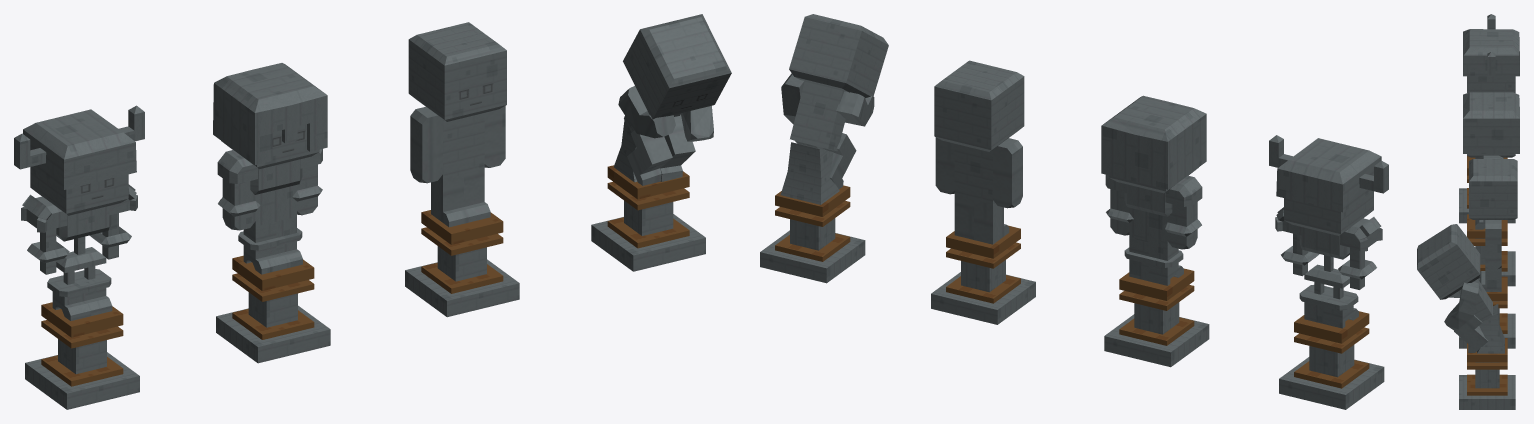
Rendered from C3_statue.FBX.
3 views of the same model, side by side, from view 1: azimuth 30°, elevation 25°; view 2: azimuth 150°, elevation 25°; view 3: azimuth 270°, elevation 25° (orthographic). The views are drawn at different scales.
Visible parts, largest first — view 1: soldier statue, skeleton man statue, civilian statue, statue, Box026; view 2: soldier statue, skeleton man statue, civilian statue, statue, Box026; view 3: statue, civilian statue, soldier statue, skeleton man statue, Box026.
Part boxes in pixels (box(x1,y1,x2,y2)): soldier statue: box(213, 63, 330, 363); skeleton man statue: box(14, 105, 144, 409); civilian statue: box(405, 22, 519, 317); statue: box(591, 14, 731, 271); Box026: box(614, 120, 637, 182); soldier statue: box(1101, 95, 1209, 367); skeleton man statue: box(1269, 135, 1388, 409); civilian statue: box(931, 60, 1035, 324); statue: box(760, 14, 888, 283); Box026: box(780, 142, 839, 204); statue: box(1417, 224, 1515, 409); civilian statue: box(1459, 159, 1517, 348); soldier statue: box(1463, 92, 1519, 286); skeleton man statue: box(1459, 14, 1519, 223); Box026: box(1477, 304, 1504, 353).
Size of the model in its own units: 1934 by 728 by 380.
1 material, 1 textured.
